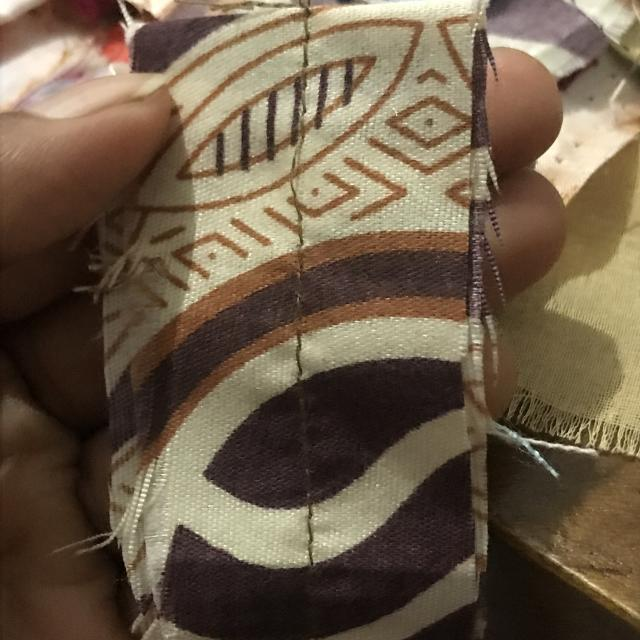skip: (264, 129, 323, 226)
